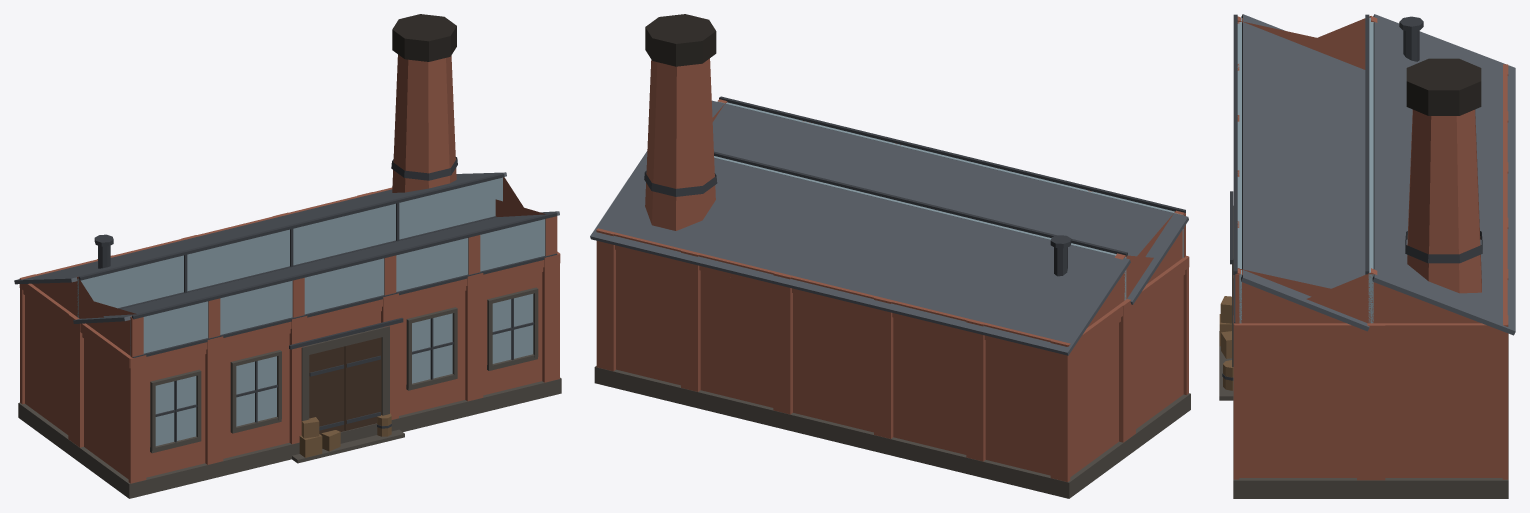
The model's file is era2-factory-BH43RhXc.glb.
3 renders of one model, left to right at view 1: azimuth 30°, elevation 25°; view 2: azimuth 150°, elevation 25°; view 3: azimuth 270°, elevation 25°, orthographic. The views are drawn at different scales.
Parts seen in each view (by area): view 1: FactoryHall_Hall, FactoryHall_Glazing, FactoryHall_Foundation, FactoryHall_Ironwork, FactoryHall_Roof, FactoryHall_Stack, FactoryHall_Door, FactoryHall_StackCap, FactoryHall_Cargo; view 2: FactoryHall_Hall, FactoryHall_Roof, FactoryHall_Foundation, FactoryHall_Stack, FactoryHall_Ironwork, FactoryHall_StackCap, FactoryHall_Glazing; view 3: FactoryHall_Hall, FactoryHall_Roof, FactoryHall_Stack, FactoryHall_Foundation, FactoryHall_Ironwork, FactoryHall_StackCap, FactoryHall_Glazing, FactoryHall_Cargo.
Boxes of the visible parts, <box> form: FactoryHall_Hall: <box>19,177,560,483</box>; FactoryHall_Glazing: <box>77,177,545,445</box>; FactoryHall_Foundation: <box>18,287,561,498</box>; FactoryHall_Ironwork: <box>78,157,557,442</box>; FactoryHall_Roof: <box>14,172,559,323</box>; FactoryHall_Stack: <box>392,54,456,192</box>; FactoryHall_Door: <box>309,337,381,434</box>; FactoryHall_StackCap: <box>392,14,456,61</box>; FactoryHall_Cargo: <box>299,413,391,457</box>; FactoryHall_Hall: <box>596,99,1189,481</box>; FactoryHall_Roof: <box>590,100,1188,355</box>; FactoryHall_Foundation: <box>594,366,1190,498</box>; FactoryHall_Stack: <box>645,58,715,230</box>; FactoryHall_Ironwork: <box>644,96,1185,276</box>; FactoryHall_StackCap: <box>645,14,716,66</box>; FactoryHall_Glazing: <box>714,101,1183,300</box>; FactoryHall_Hall: <box>1233,16,1508,480</box>; FactoryHall_Roof: <box>1241,14,1515,335</box>; FactoryHall_Stack: <box>1407,109,1481,293</box>; FactoryHall_Foundation: <box>1219,206,1508,498</box>; FactoryHall_Ironwork: <box>1222,14,1482,380</box>; FactoryHall_StackCap: <box>1406,58,1481,115</box>; FactoryHall_Glazing: <box>1237,17,1373,323</box>; FactoryHall_Cargo: <box>1219,296,1233,390</box>.
Bounding box in the file's own units: 15.4 × 10.7 × 7.32.
